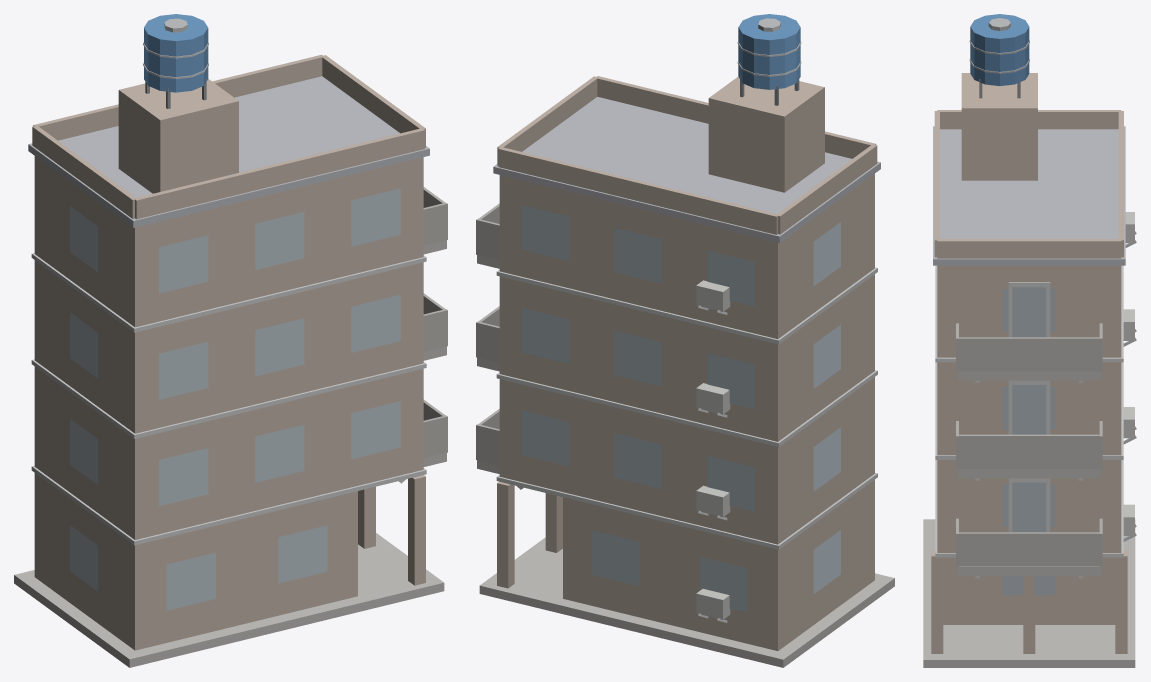
Rendered from 07_residential_low-07.glb.
The picture shows the model from 3 angles, left to right: view 1: azimuth 30°, elevation 25°; view 2: azimuth 150°, elevation 25°; view 3: azimuth 270°, elevation 25°; orthographic projection. The views are drawn at different scales.
Bounding box in the file's own units: 10.25 × 17.27 × 6.14.
